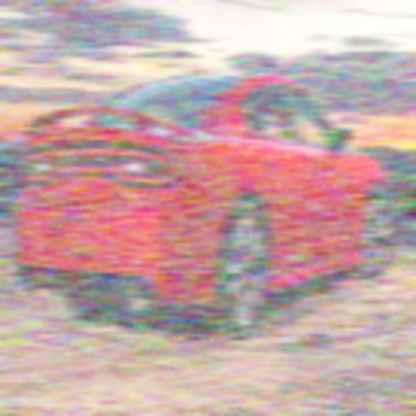Vehicle: (16, 67, 396, 344)
